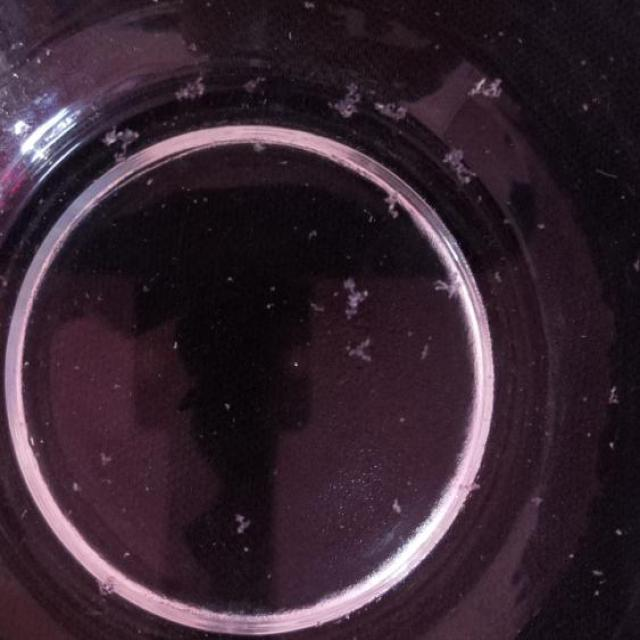fiber: (99, 120, 137, 170), (436, 146, 478, 188), (322, 80, 359, 125), (465, 75, 508, 105), (341, 273, 366, 323), (374, 100, 414, 128), (346, 335, 376, 367), (167, 75, 205, 100), (375, 184, 403, 216), (231, 510, 257, 540), (430, 279, 465, 301), (309, 300, 337, 324), (242, 75, 270, 98), (59, 471, 88, 493), (259, 278, 287, 300), (94, 577, 117, 603), (304, 219, 325, 247), (96, 442, 114, 472), (604, 385, 625, 408), (251, 138, 274, 158), (416, 343, 435, 367), (285, 24, 305, 46), (286, 356, 304, 379), (215, 397, 235, 416), (0, 267, 14, 293), (489, 260, 502, 287), (499, 190, 518, 208), (136, 276, 154, 294), (501, 211, 515, 231), (390, 500, 405, 518), (302, 0, 323, 10), (535, 216, 548, 232), (220, 273, 238, 284), (33, 198, 47, 210), (264, 300, 277, 312), (168, 341, 180, 350)
